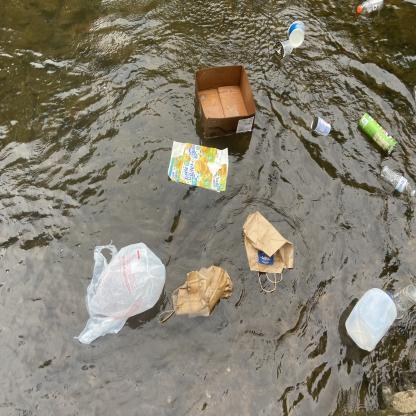trash: (75, 234, 172, 348), (155, 259, 239, 327), (187, 62, 259, 140), (237, 207, 299, 297), (339, 280, 401, 354), (163, 136, 234, 194), (354, 110, 399, 158), (379, 162, 416, 200), (387, 280, 416, 320), (286, 15, 307, 49), (308, 115, 335, 139), (352, 0, 386, 19), (274, 38, 296, 60)
